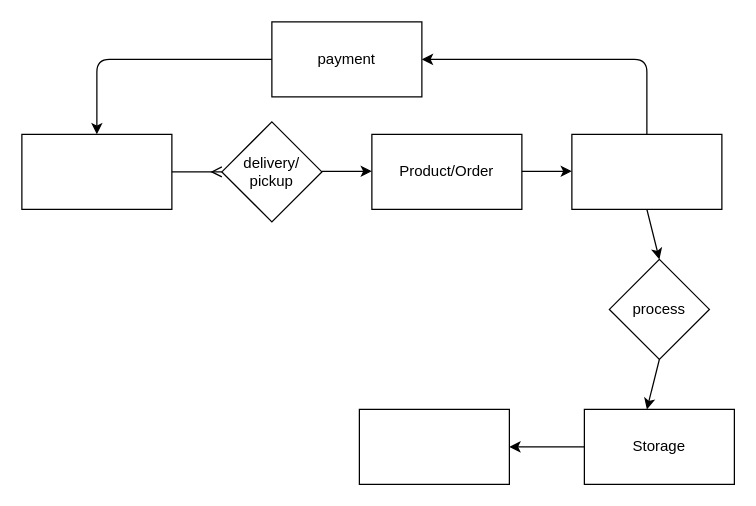
Some shapes in this 756 by 506 pixel diagram are drawn without their labels. The shapes that lost their labels are listed below. From the top down, each one's centre as x and y in pixels, then its label:
point 96,171: Customer Package/Mail
point 646,171: Employee/ office
point 433,446: Transport/logistic
